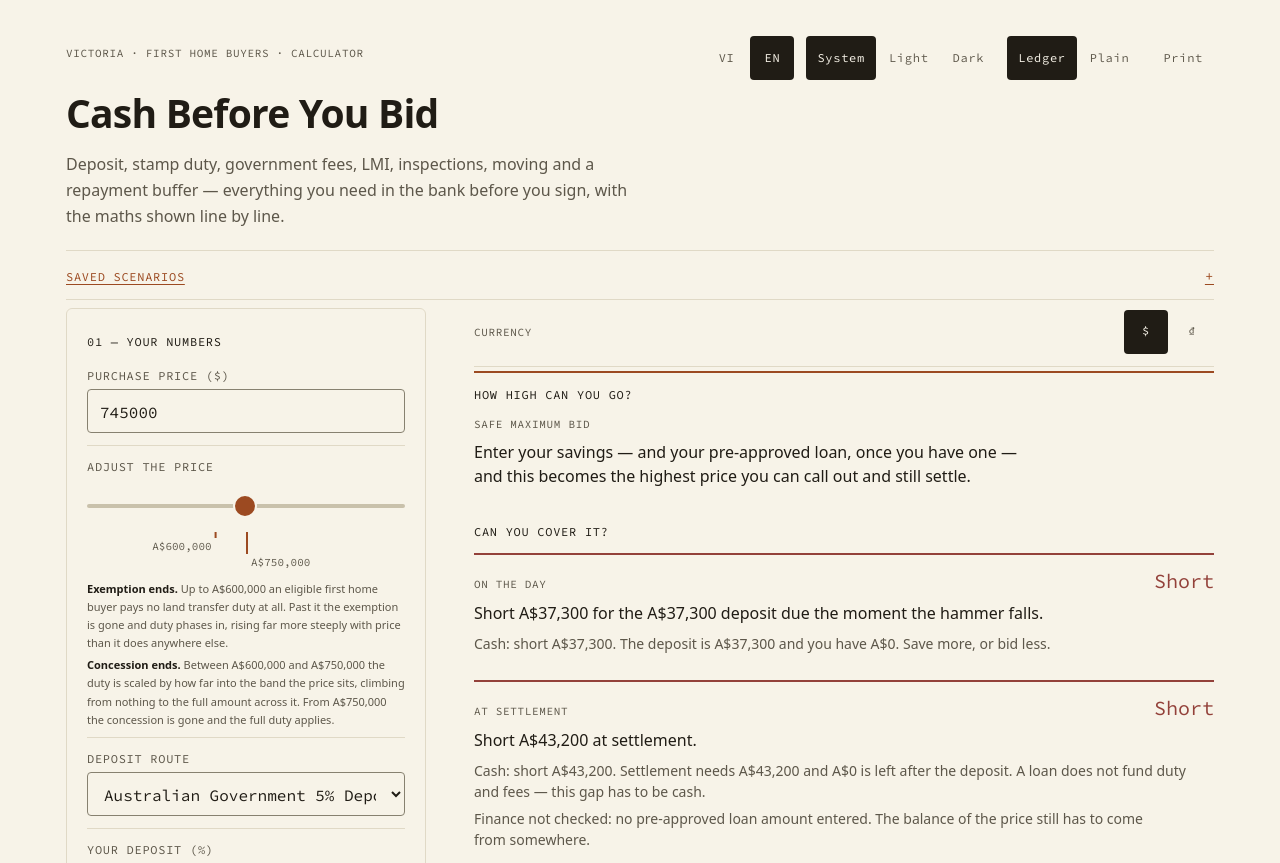
the price slider and its duty cliffs › moves the price, and the field and the duty follow it
The image size is (1280, 863).
Expected: the field labelled "Purchase price ($)" is shown, x1=87 y1=389 x2=405 y2=433
Set the slider labelled "Adjust the price" to "755000" at (247, 506), box x1=87 y1=484 x2=405 y2=528
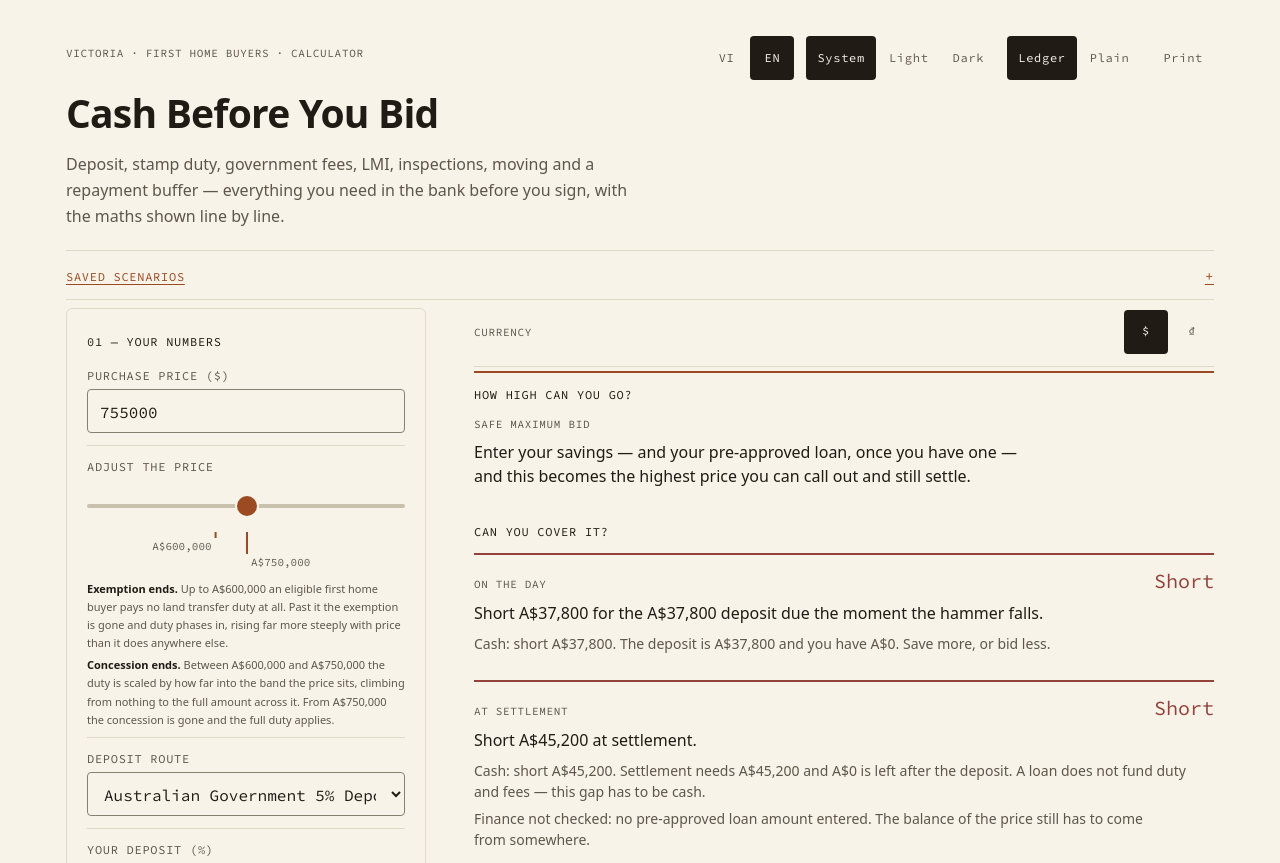
Result: the field labelled "Purchase price ($)" holds "755000" at x1=87 y1=389 x2=405 y2=433
